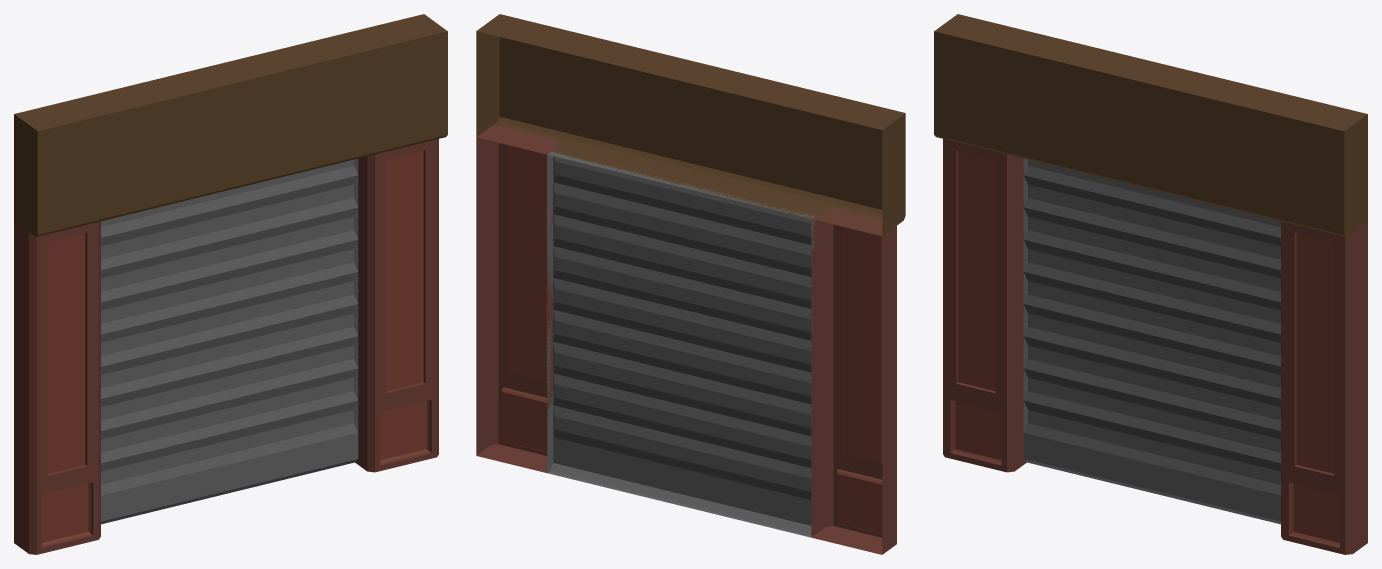
The model's file is front1.fbx.
3 renders of one model, left to right at view 1: azimuth 30°, elevation 25°; view 2: azimuth 150°, elevation 25°; view 3: azimuth 330°, elevation 25°, orthographic.
Parts seen in each view (by area): view 1: Cube.001; view 2: Cube.001; view 3: Cube.001.
Boxes of the visible parts, <box> form: Cube.001: <box>14,14,447,554</box>; Cube.001: <box>476,14,905,554</box>; Cube.001: <box>934,14,1367,554</box>.
Bounding box in the file's own units: 400 × 400 × 40.
